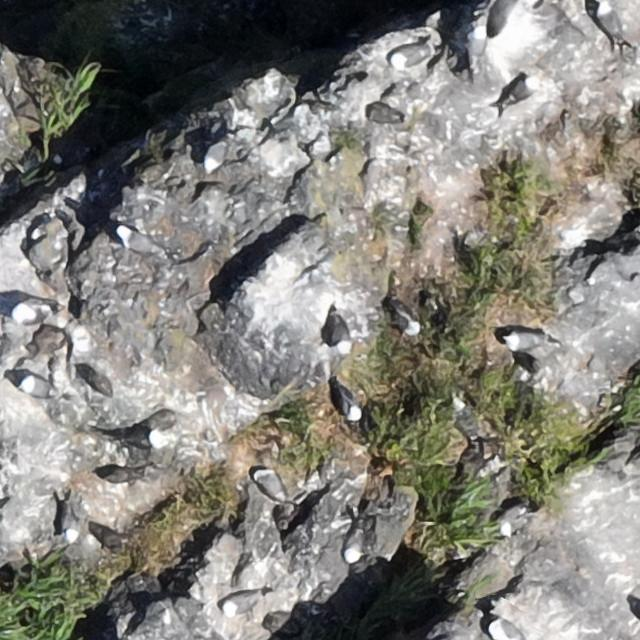umineko: (115, 224, 160, 255), (453, 396, 481, 444), (12, 298, 58, 324), (500, 507, 534, 539), (258, 472, 285, 499), (395, 306, 420, 334), (224, 594, 256, 614), (596, 4, 614, 39), (205, 144, 228, 171), (128, 431, 162, 449), (19, 377, 51, 396), (343, 530, 362, 562), (506, 332, 539, 350), (332, 317, 349, 351), (508, 79, 533, 102), (61, 507, 77, 540), (394, 46, 420, 65), (344, 395, 362, 421)
